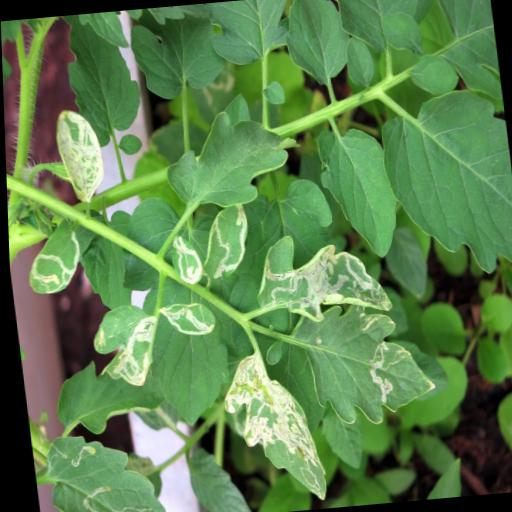Healthy: (374, 82, 512, 280), (159, 104, 293, 214), (314, 120, 402, 264), (61, 10, 145, 150), (281, 0, 356, 92), (207, 0, 295, 72), (336, 0, 426, 59)
Leaf_Miner: (278, 299, 438, 430), (214, 338, 324, 510), (248, 226, 395, 330), (87, 283, 223, 393), (163, 202, 268, 298), (42, 440, 172, 512), (16, 213, 93, 308), (52, 108, 108, 204)
